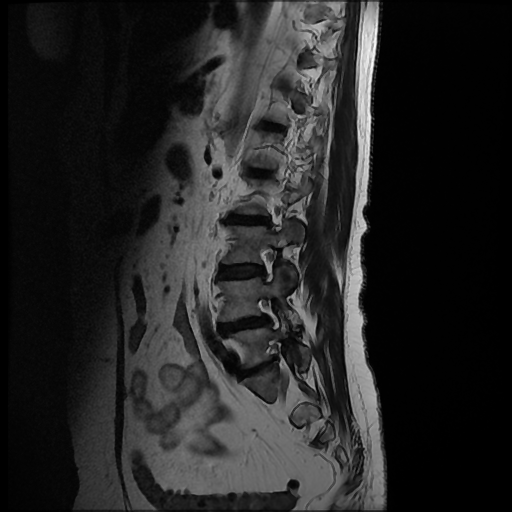LFS0: (249, 289, 295, 334), (250, 239, 291, 287)
